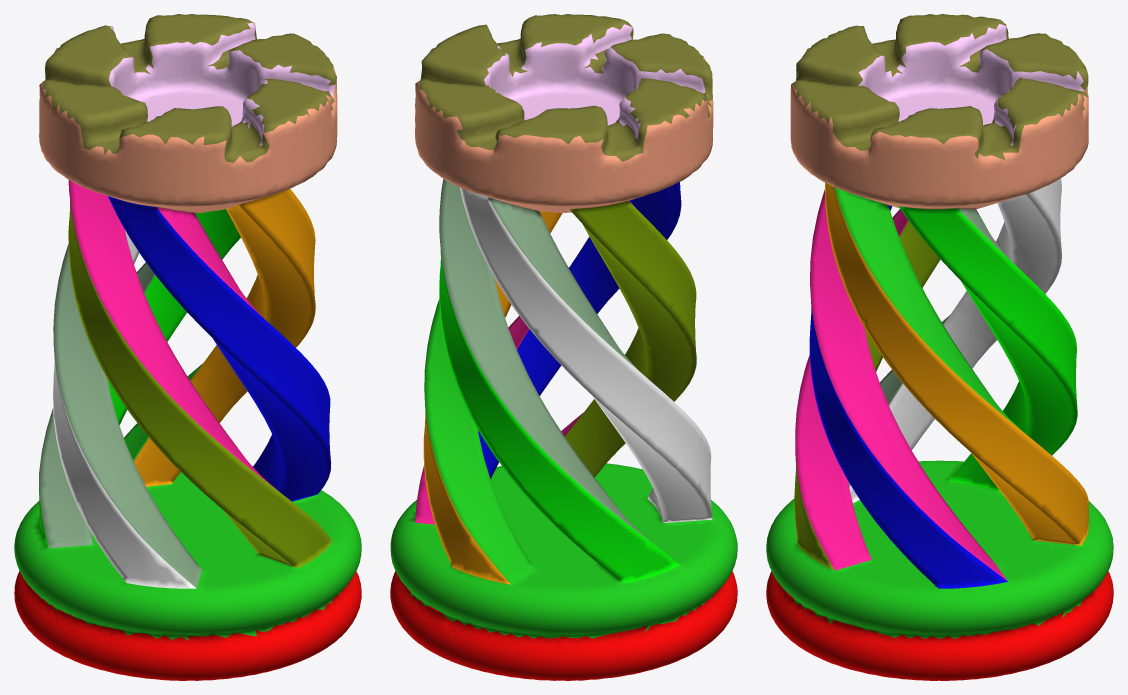
File: model_81_segmented_new.obj
The picture shows the model from 3 angles, left to right: view 1: azimuth 30°, elevation 25°; view 2: azimuth 150°, elevation 25°; view 3: azimuth 270°, elevation 25°; orthographic projection.
Size of the model in its own units: 34.95 by 60.02 by 34.96.
